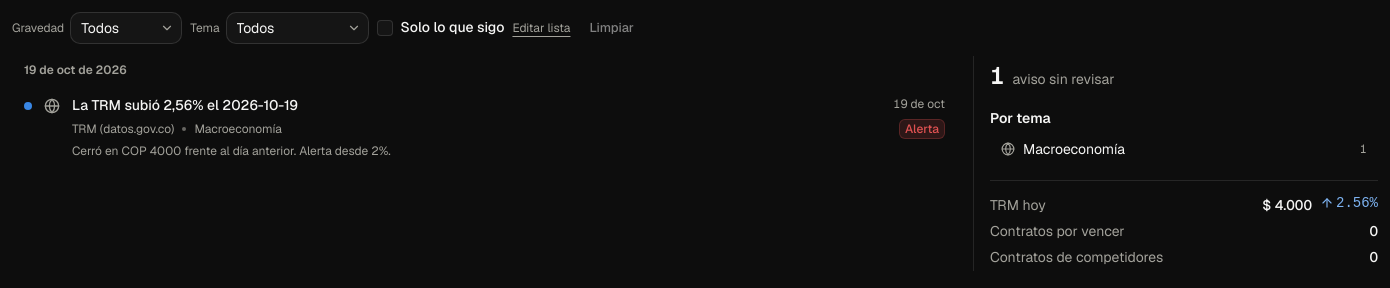
RadarView › filters by tema from the summary and releases the filter with Limpiar
Check: the button "La TRM subió 2,56% el 2026-10-19" is shown, box [72,96,298,115]
Click the button "Macroeconomía 1" at (1074, 149), box [990,134,1378,164]
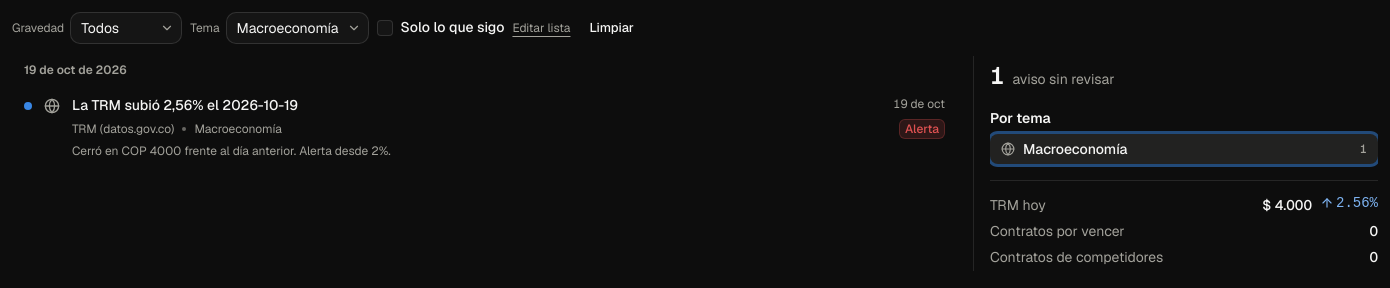
Check: the dropdown labelled "Tema" shows "Macroeconomía"
Select "Contratación" in the dropdown labelled "Tema" at (297, 28), box [226,12,368,44]
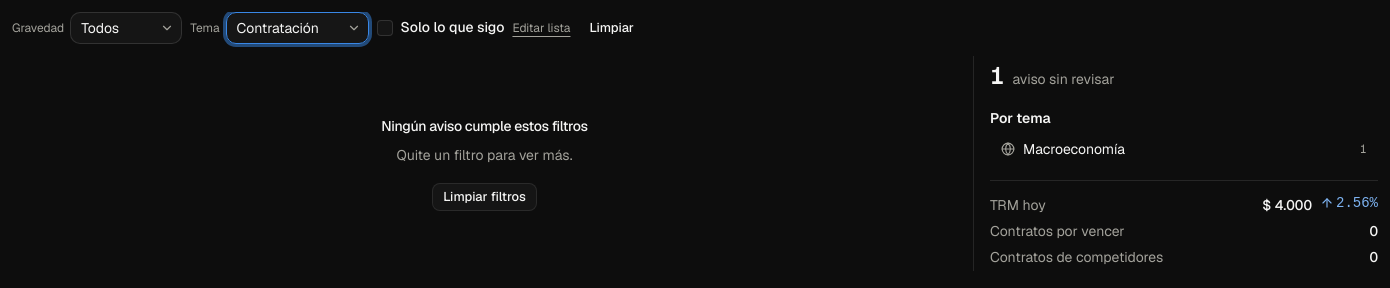
Check: the button "La TRM subió" is gone
Check: the text "Ningún aviso cumple estos filtros" is shown, box [381,116,588,136]
Click the button "Limpiar" at (612, 28), box [578,14,645,42]
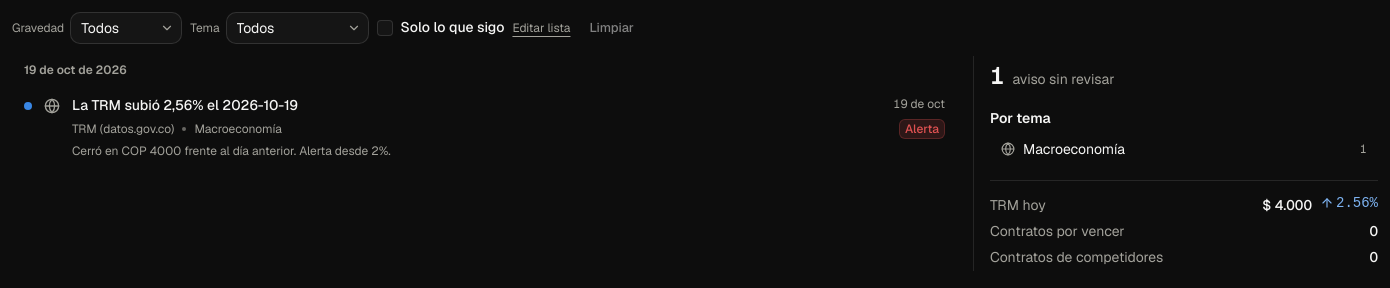
Check: the button "La TRM subió 2,56% el 2026-10-19" is shown, box [72,96,298,115]
